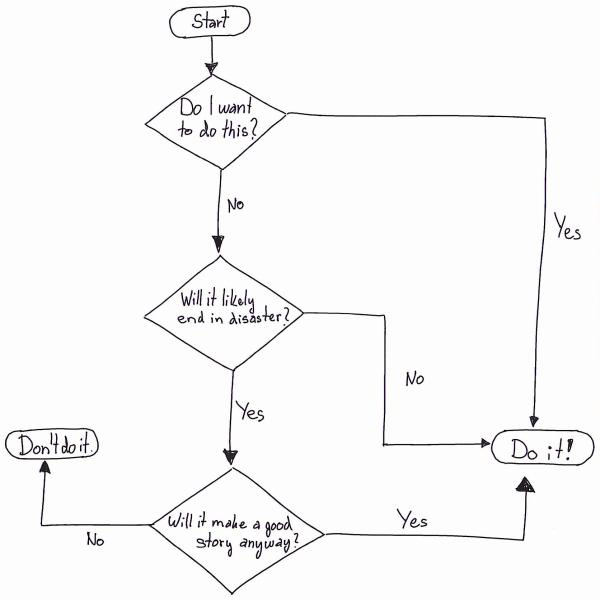arrow: (290, 104, 552, 425), (303, 281, 493, 471), (322, 477, 535, 558), (34, 458, 150, 544), (225, 371, 241, 465), (210, 172, 226, 257), (200, 36, 221, 76), (513, 473, 540, 497), (519, 408, 546, 428), (477, 429, 490, 455), (31, 465, 55, 473)
decision: (153, 466, 322, 599), (146, 256, 306, 370), (146, 77, 285, 163)
terminator: (7, 426, 97, 460), (165, 7, 255, 40)
text: (172, 510, 303, 558), (182, 287, 291, 334), (177, 98, 261, 146), (510, 431, 574, 462), (17, 430, 93, 456), (190, 7, 238, 41), (556, 213, 586, 256), (236, 394, 268, 429), (79, 521, 113, 551), (398, 501, 435, 526), (398, 359, 424, 389)
